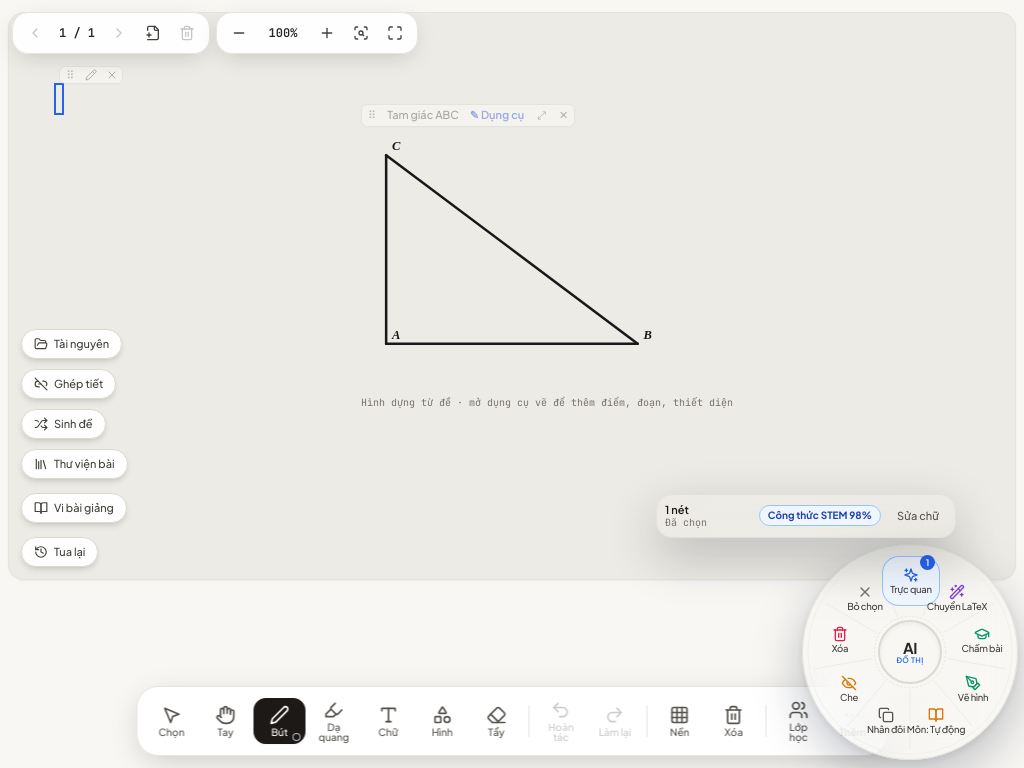
viết yêu cầu lên bảng, khoanh, bấm Vẽ hình: thêm vào hình đang có › "vẽ đường tròn ngoại tiếp tam giác ABC" thêm đường tròn vào hình, không tạo hình mới
Step 1. Click the button with test id "ai-fab-draw" → point(973, 689), box x1=945 y1=665 x2=1001 y2=713
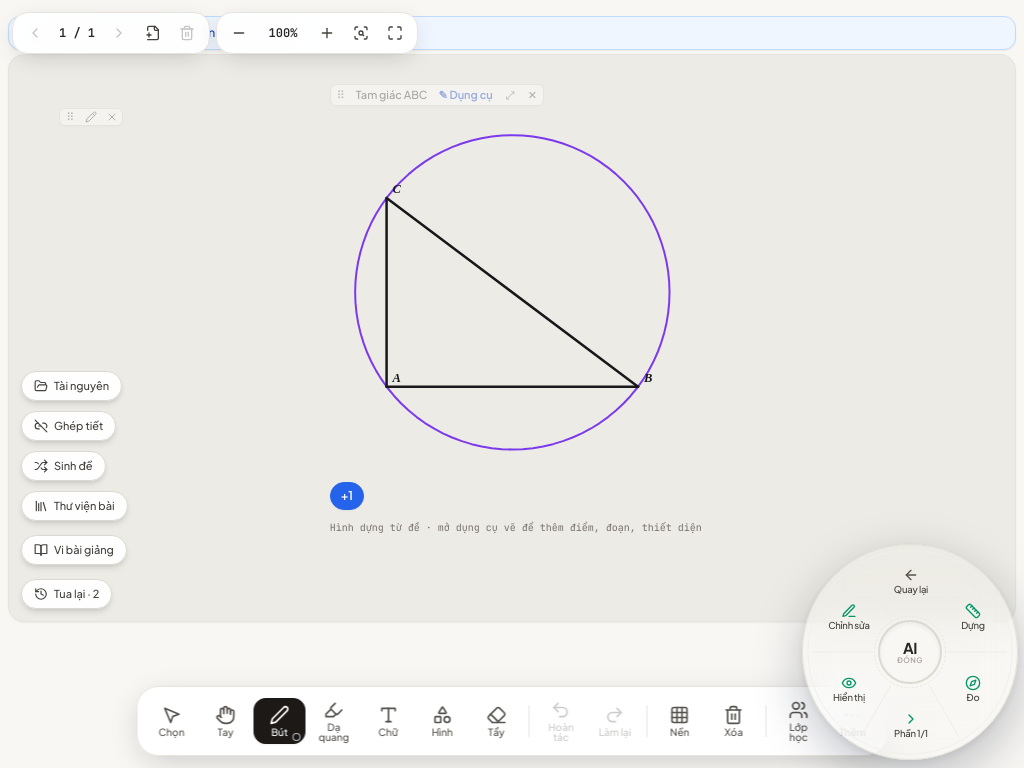
Expected: the number of elements with test id "inline-shape" is 1, x1=330 y1=84 x2=702 y2=534
Expected: the element with test id "info-toast" shows "đường tròn", x1=49 y1=25 x2=303 y2=40
